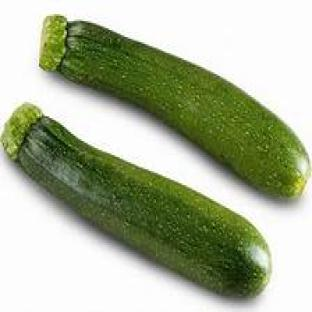Zucchini: (2, 104, 271, 296), (41, 16, 309, 197)
